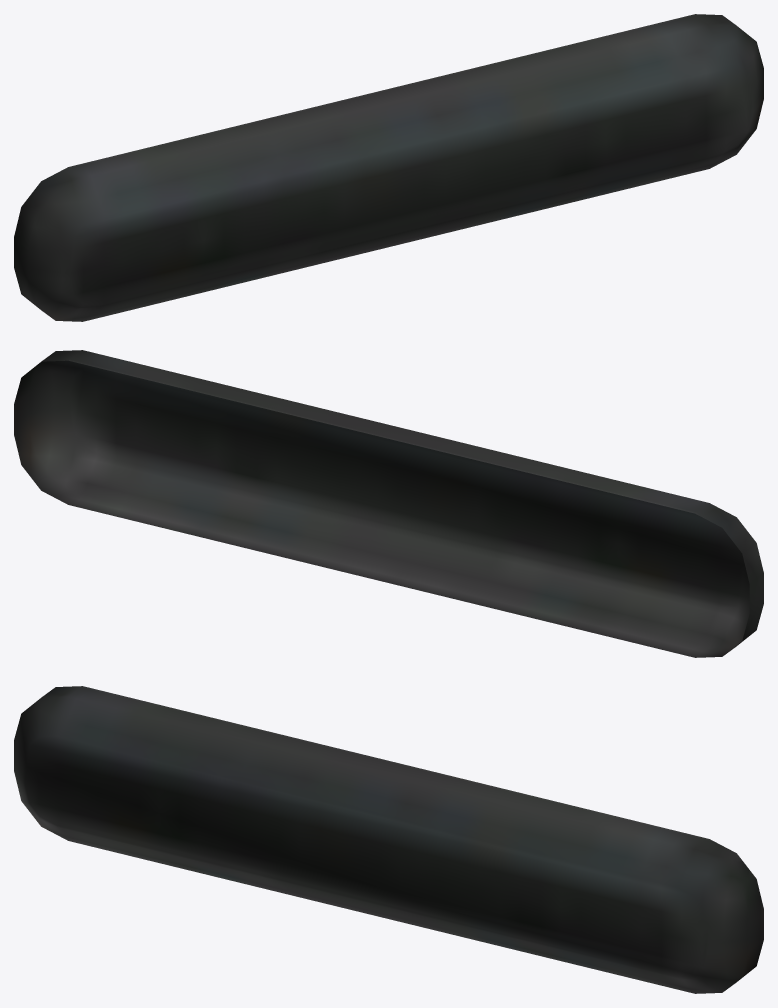
The model's file is 02_07_power_pump_small_lamp.dae.
3 views of the same model, one above another, from view 1: azimuth 30°, elevation 25°; view 2: azimuth 150°, elevation 25°; view 3: azimuth 330°, elevation 25° (orthographic).
Visible parts, largest first — view 1: polySurface273; view 2: polySurface273; view 3: polySurface273.
Boxes of the visible parts, <box> form: polySurface273: <box>14,14,763,321</box>; polySurface273: <box>14,350,763,657</box>; polySurface273: <box>14,686,763,993</box>.
Size of the model in its own units: 0.0697 by 0.0131 by 0.00486.
